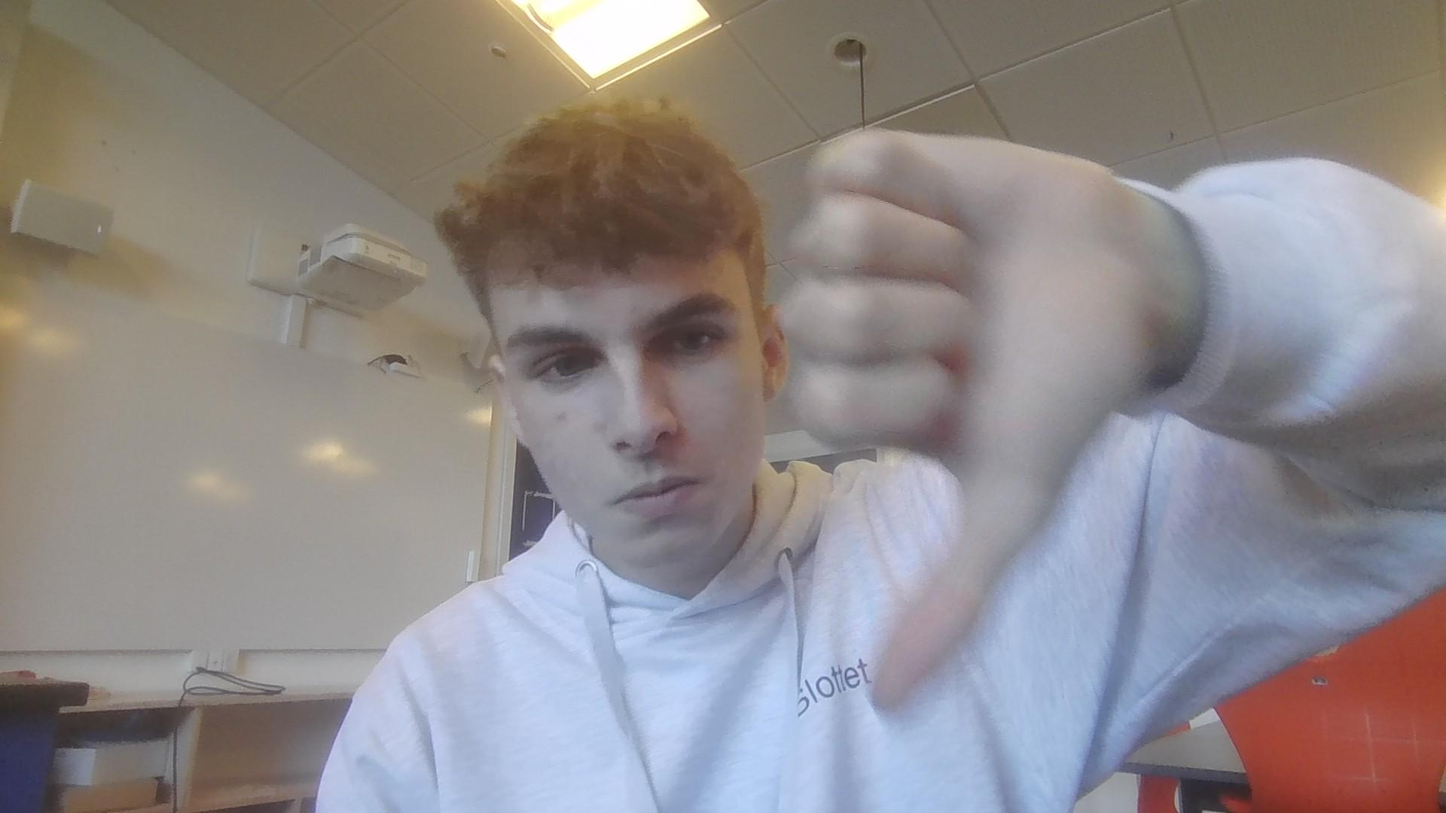thumbs down: (802, 128, 1154, 726)
